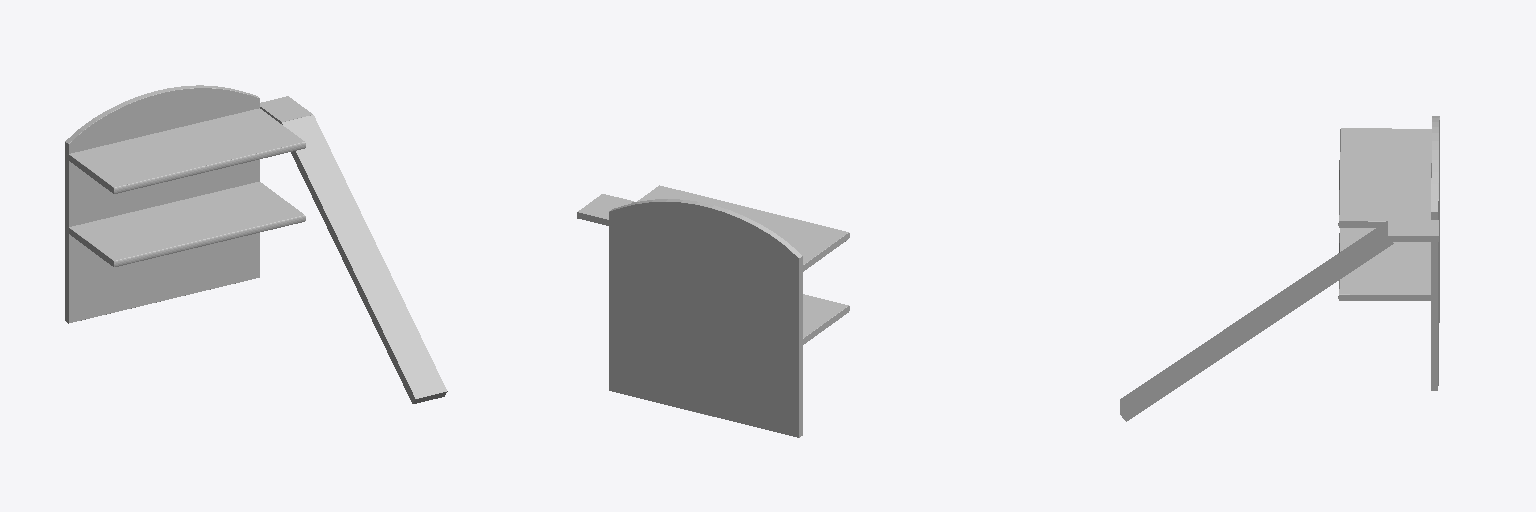
File: shelfobj.obj
3 renders of one model, left to right at view 1: azimuth 30°, elevation 25°; view 2: azimuth 150°, elevation 25°; view 3: azimuth 270°, elevation 25°, orthographic.
Parts seen in each view (by area): view 1: shelf_shelf_None_wood.JPG, Cube_Cube_None, Cube.001_Cube.001_None; view 2: shelf_shelf_None_wood.JPG, Cube.001_Cube.001_None; view 3: shelf_shelf_None_wood.JPG, Cube_Cube_None, Cube.001_Cube.001_None.
Boxes of the visible parts, x1=… form: shelf_shelf_None_wood.JPG: x1=65, y1=85, x2=305, y2=323; Cube_Cube_None: x1=281, y1=115, x2=447, y2=403; Cube.001_Cube.001_None: x1=260, y1=96, x2=312, y2=123; shelf_shelf_None_wood.JPG: x1=609, y1=185, x2=849, y2=437; Cube.001_Cube.001_None: x1=577, y1=194, x2=633, y2=225; shelf_shelf_None_wood.JPG: x1=1338, y1=116, x2=1439, y2=390; Cube_Cube_None: x1=1120, y1=221, x2=1393, y2=421; Cube.001_Cube.001_None: x1=1388, y1=220, x2=1438, y2=241.
Size of the model in its own units: 1.16 by 1.11 by 1.44.